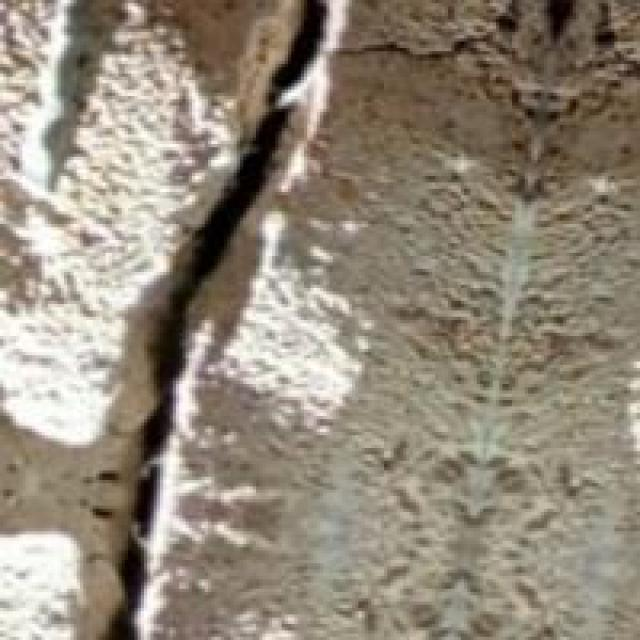Crack: (106, 0, 384, 637)
